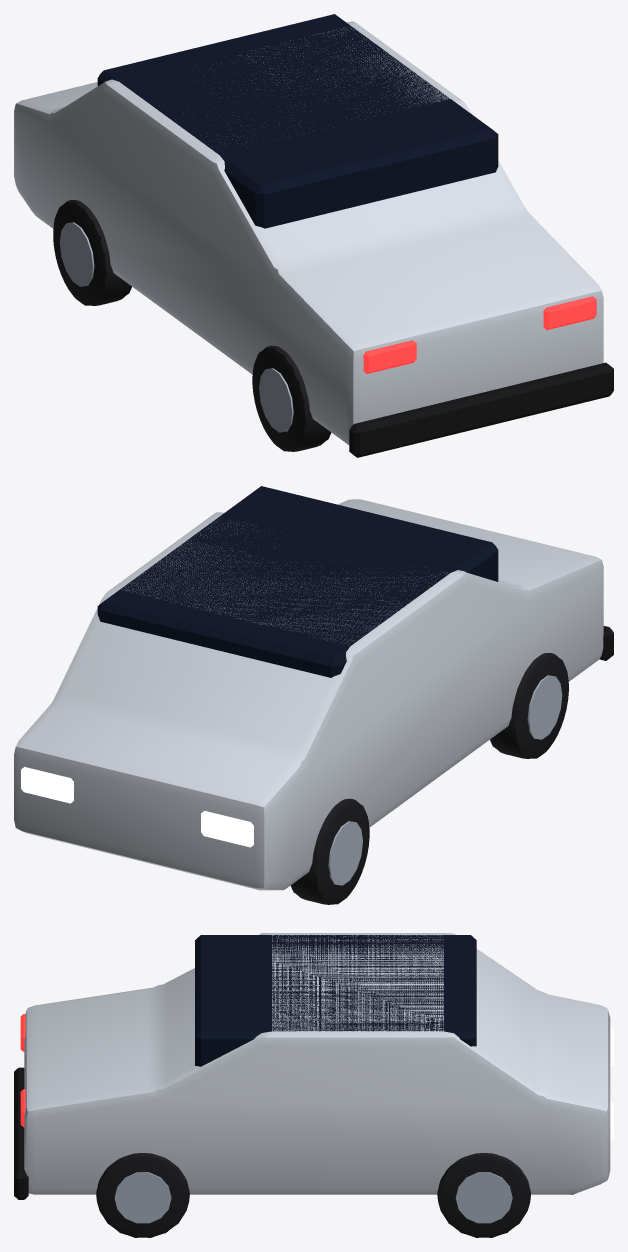
File: car_hatch.glb
3 views of the same model, one above another, from view 1: azimuth 30°, elevation 25°; view 2: azimuth 150°, elevation 25°; view 3: azimuth 270°, elevation 25° (orthographic). The views are drawn at different scales.
Visible parts, largest first — view 1: paint_white, glass, plastic_black, rubber, steel, lamp_red; view 2: paint_white, glass, rubber, steel, lamp_white; view 3: paint_white, glass, rubber, steel, plastic_black.
Boxes of the visible parts, x1,y1,x2,y2 form: paint_white: (14,21,603,444); glass: (97,14,498,228); plastic_black: (349,362,613,457); rubber: (53,200,331,451); steel: (59,222,293,432); lamp_red: (363,296,596,373); paint_white: (14,499,603,890); glass: (97,486,498,677); rubber: (290,653,568,904); steel: (328,675,562,885); lamp_white: (21,767,253,847); paint_white: (24,933,610,1194); glass: (195,935,476,1066); rubber: (96,1153,530,1237); steel: (114,1172,512,1223); plastic_black: (14,1067,28,1199).
Size of the model in its own units: 1.8 by 1.5 by 4.05.
